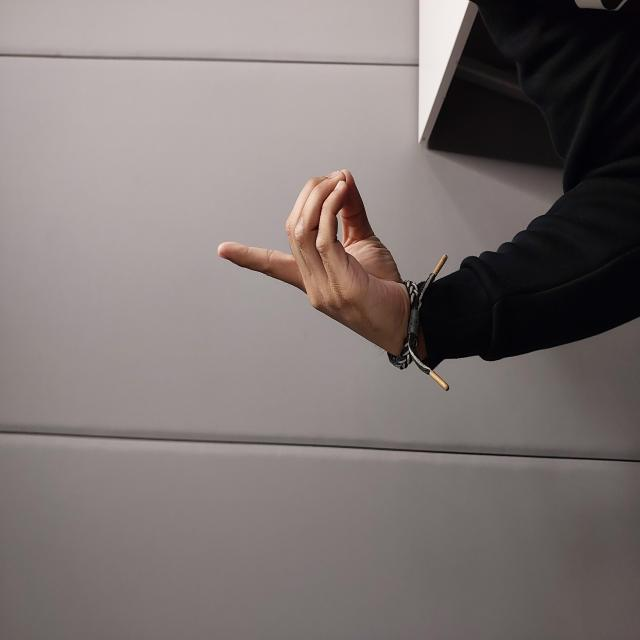D: (282, 216, 474, 410)
